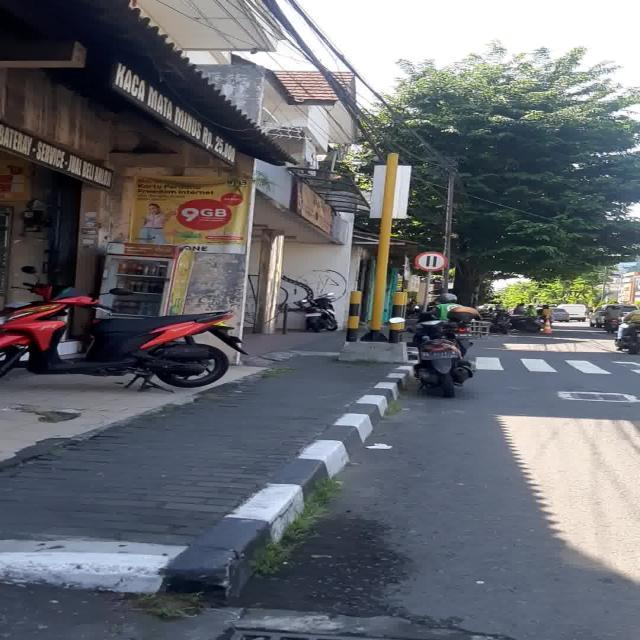Larangan Muatan - 10 ton: (415, 252, 447, 272)
